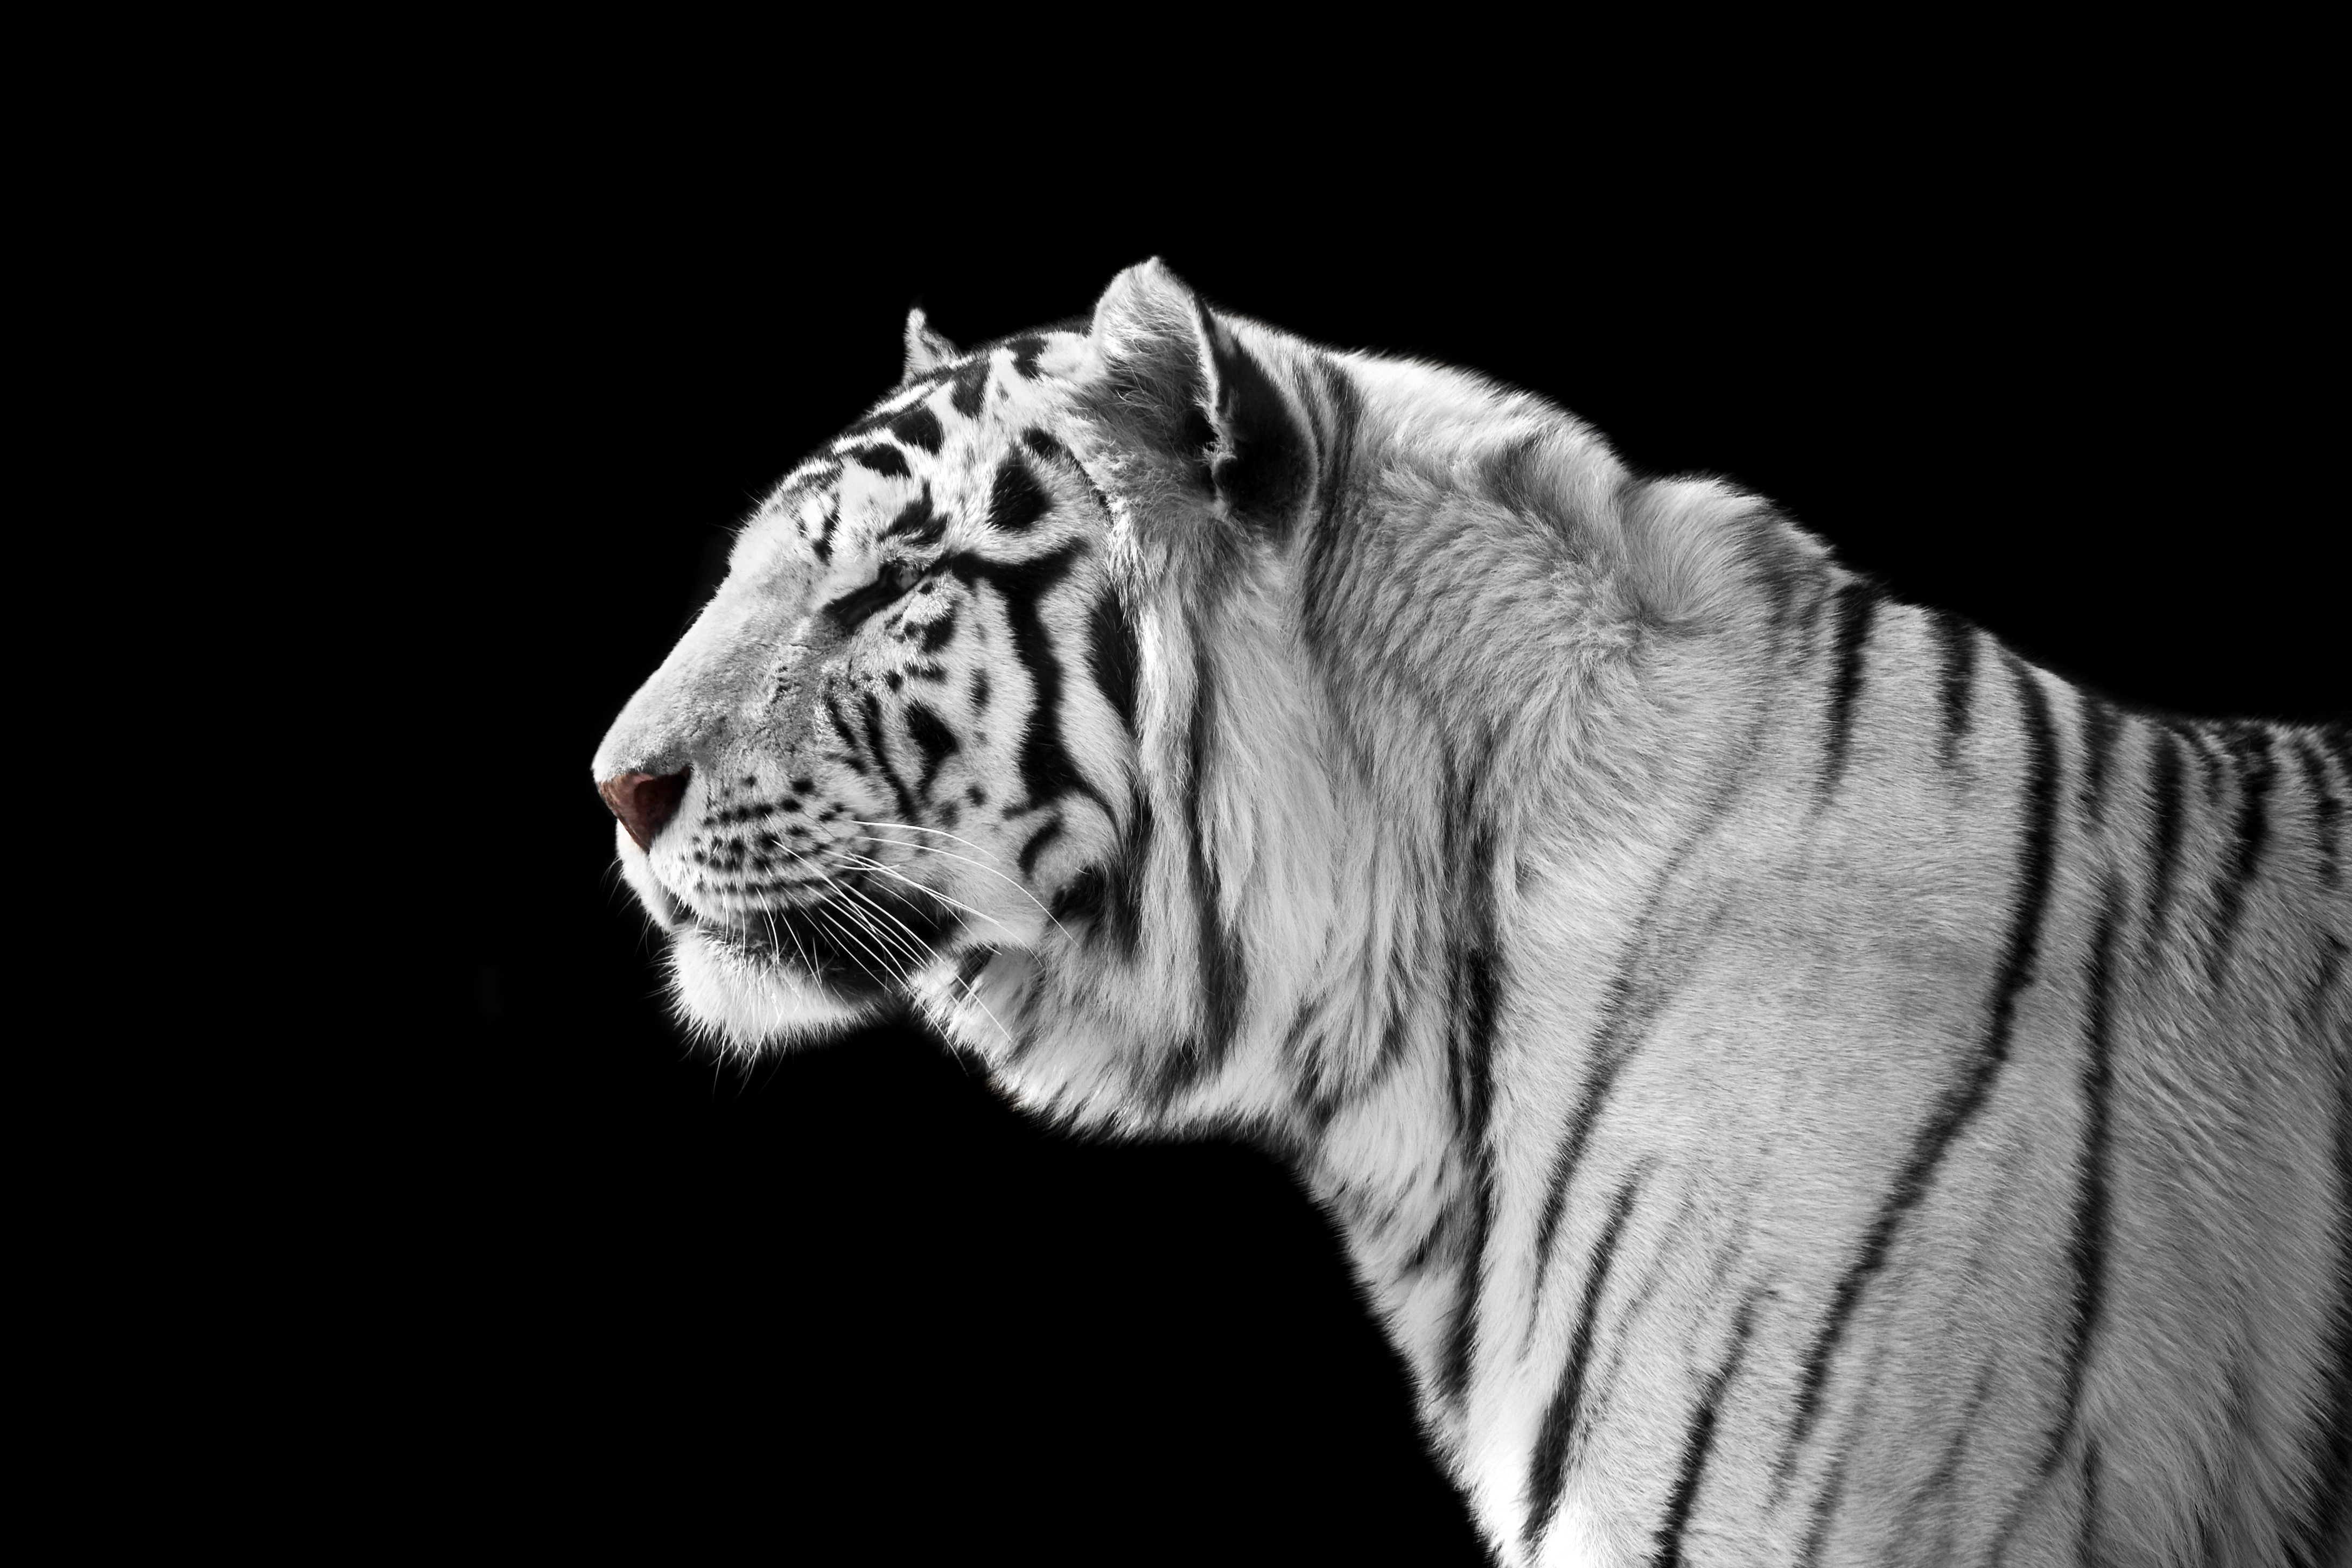tiger: (332, 208, 2144, 1360)
